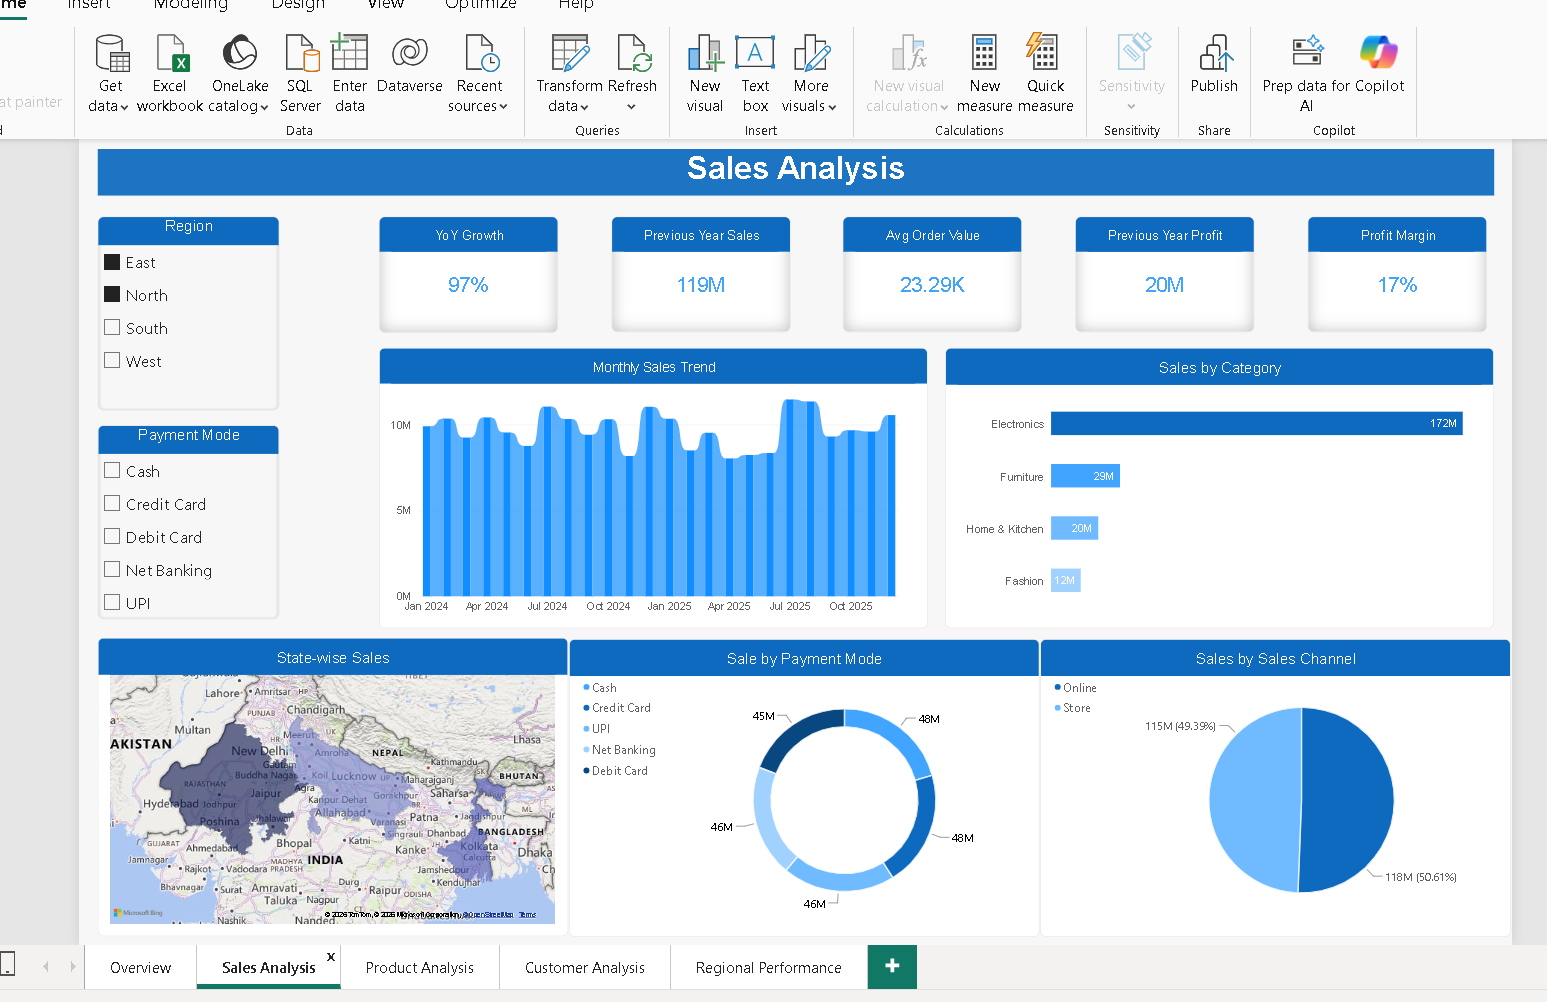

The page's visual inventory and layout, read from the dashboard file:
{"tool":"powerbi","page":{"name":"Sales Analysis","canvas":[1920,1080],"ordinal":1},"visuals":[{"type":"textbox","box":[24.4,14,1871.5,62.8],"z":0},{"type":"cardVisual","title":"YoY Growth","fields":{"Data":["Sales_Data.YoY Growth"]},"box":[402.7,103.8,240,155.7],"z":0,"group":"g1"},{"type":"cardVisual","title":"Profit Margin","fields":{"Data":["Sales_Data.Profit Margin"]},"box":[1646.6,104.5,240,155],"z":1000,"group":"g1"},{"type":"ribbonChart","title":"Monthly Sales Trend","fields":{"Category":["Date.Year_Month"],"Y":["Sum(Sales_Data.Sales)"]},"box":[402.7,279.2,735,375.8],"z":1000},{"type":"cardVisual","title":"Previous Year Sales","fields":{"Data":["Sales_Data.Previous Year Sales"]},"box":[713.7,104.5,240,155],"z":2000,"group":"g1"},{"type":"barChart","title":" Sales by Category","fields":{"Category":["Sales_Data.Category"],"Y":["Sum(Sales_Data.Sales)"]},"box":[1161.5,279.2,735,375.8],"z":2000},{"type":"group","id":"g1","title":"Group 1","box":[402.7,103.8,1483.9,155.7],"z":3000},{"type":"cardVisual","title":"Previous Year Profit","fields":{"Data":["Sales_Data.Previous Year Profit"]},"box":[1335.6,104.5,240,155],"z":3000,"group":"g1"},{"type":"filledMap","title":"State-wise Sales","fields":{"Category":["Sales_Data.State"]},"box":[25.1,667.6,630,400],"z":3000,"group":"g3"},{"type":"group","id":"g2","title":"Group 2","box":[25.1,103.8,243.4,538.7],"z":4000},{"type":"cardVisual","title":"Avg Order Value","fields":{"Data":["Sales_Data.Average Order Value"]},"box":[1024.6,104.5,240,155],"z":4000,"group":"g1"},{"type":"donutChart","title":"Sale by Payment Mode","fields":{"Category":["Sales_Data.Payment_Mode"],"Y":["Sum(Sales_Data.Sales)"]},"box":[656.9,668.5,630,399.1],"z":4000,"group":"g3"},{"type":"group","id":"g3","title":"Group 3","box":[25.1,667.6,1893.5,400],"z":5000},{"type":"pieChart","title":"Sales by Sales Channel","fields":{"Category":["Sales_Data.Sales_Channel"],"Y":["Sum(Sales_Data.Sales)"]},"box":[1288.6,668.5,630,399.1],"z":5000,"group":"g3"},{"type":"slicer","title":"Region","fields":{"Values":["Sales_Data.Region"]},"box":[25.1,103.8,243.4,259.8],"z":7000,"group":"g2"},{"type":"slicer","title":"Payment Mode","fields":{"Values":["Sales_Data.Payment_Mode"]},"box":[25.1,382.7,243.4,259.8],"z":8000,"group":"g2"}]}

Visuals, with their boxes on the page's 1920x1080 design canvas (x1, y1, x2, y2). These are canvas units, not pixel positions in the 1547x1002 screenshot, which may show the page scaled, cropped or inside an application window:
textbox: l=24, t=14, r=1896, b=77
"YoY Growth" cardVisual: l=403, t=104, r=643, b=260
"Profit Margin" cardVisual: l=1647, t=104, r=1887, b=260
"Monthly Sales Trend" ribbonChart: l=403, t=279, r=1138, b=655
"Previous Year Sales" cardVisual: l=714, t=104, r=954, b=260
" Sales by Category" barChart: l=1162, t=279, r=1896, b=655
"Group 1" group: l=403, t=104, r=1887, b=260
"Previous Year Profit" cardVisual: l=1336, t=104, r=1576, b=260
"State-wise Sales" filledMap: l=25, t=668, r=655, b=1068
"Group 2" group: l=25, t=104, r=268, b=642
"Avg Order Value" cardVisual: l=1025, t=104, r=1265, b=260
"Sale by Payment Mode" donutChart: l=657, t=668, r=1287, b=1068
"Group 3" group: l=25, t=668, r=1919, b=1068
"Sales by Sales Channel" pieChart: l=1289, t=668, r=1919, b=1068
"Region" slicer: l=25, t=104, r=268, b=364
"Payment Mode" slicer: l=25, t=383, r=268, b=642
